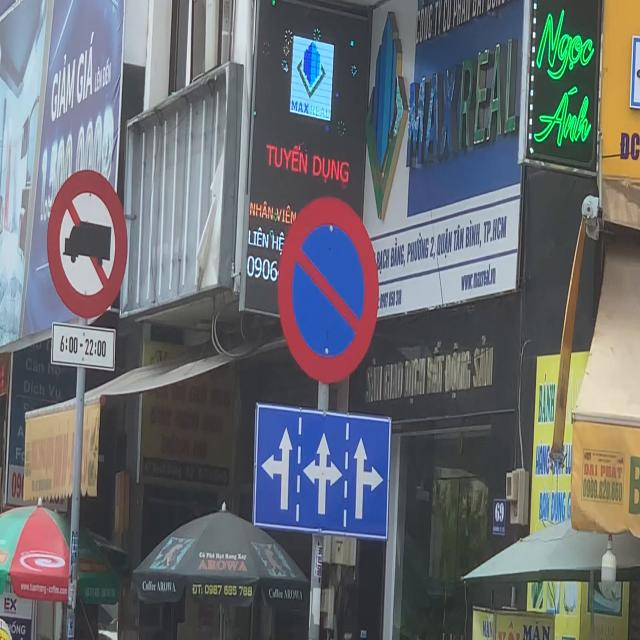Cam con lai: (46, 169, 129, 319)
Cam do: (277, 196, 380, 386)
